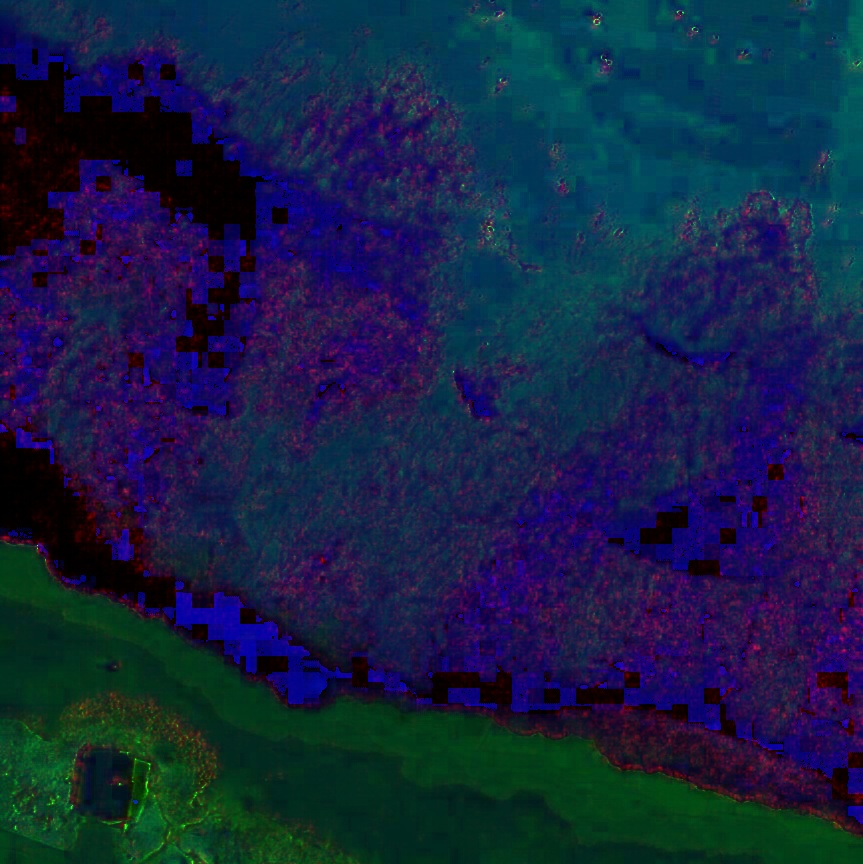rip_current: (244, 167, 693, 692)
